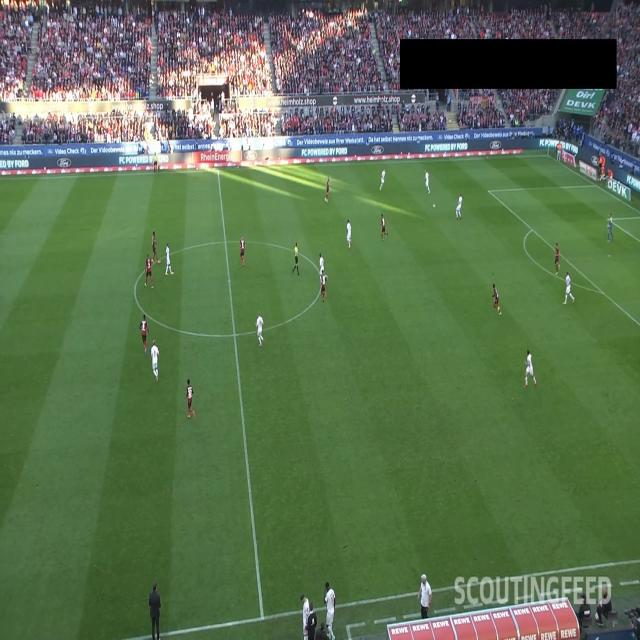ball: (433, 203, 436, 208)
